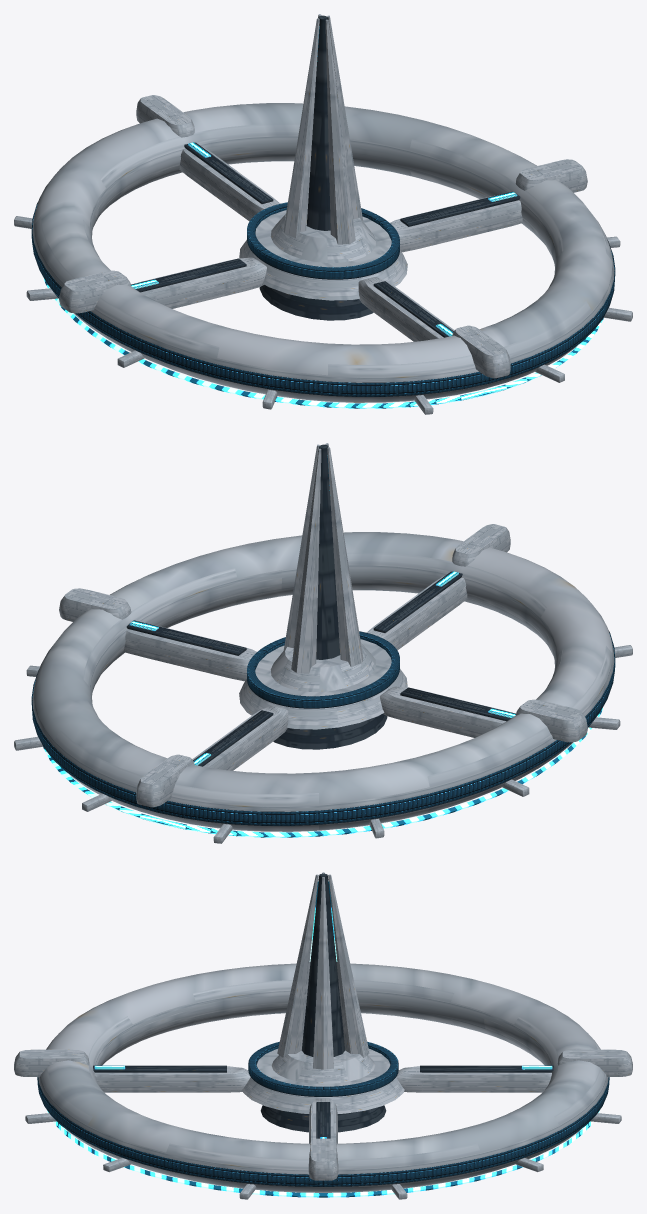
The model's file is alliance_starbase_recreated_lod1.glb.
3 renders of one model, top to bottom at view 1: azimuth 30°, elevation 25°; view 2: azimuth 150°, elevation 25°; view 3: azimuth 270°, elevation 25°, orthographic. The views are drawn at different scales.
Parts seen in each view (by area): view 1: alliance_starbase_lod_source; view 2: alliance_starbase_lod_source; view 3: alliance_starbase_lod_source.
Part boxes in pixels (x1=…): alliance_starbase_lod_source: x1=14, y1=14, x2=632, y2=414; alliance_starbase_lod_source: x1=14, y1=443, x2=632, y2=843; alliance_starbase_lod_source: x1=14, y1=872, x2=632, y2=1199.
Bounding box in the file's own units: 28.44 × 14.33 × 34.07.
Materials: 1 (1 with a texture image).
